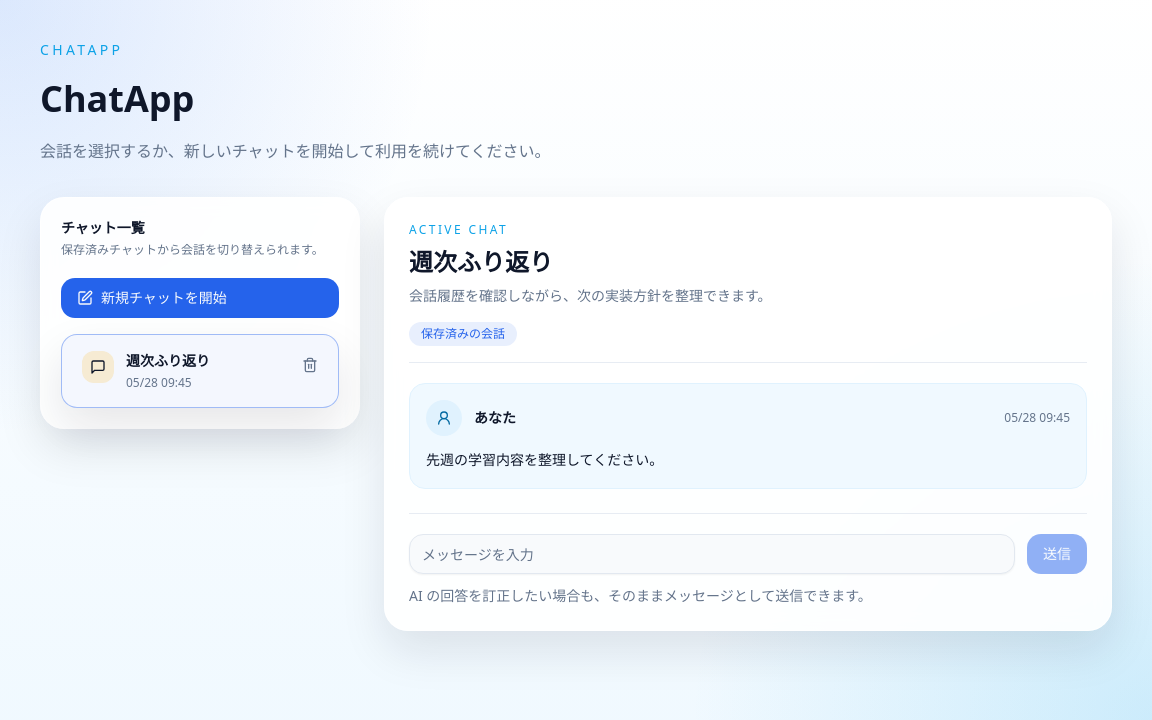
Test case: TopRoute workspace behavior › shows an inline error and keeps the current chat when message sending fails
Expected: the heading "週次ふり返り" is shown, top-left (409, 245), bottom-right (553, 278)
In the field named "メッセージ入力": (712, 554) top-left (409, 534), bottom-right (1015, 574), type "次の観点も追加してください。"
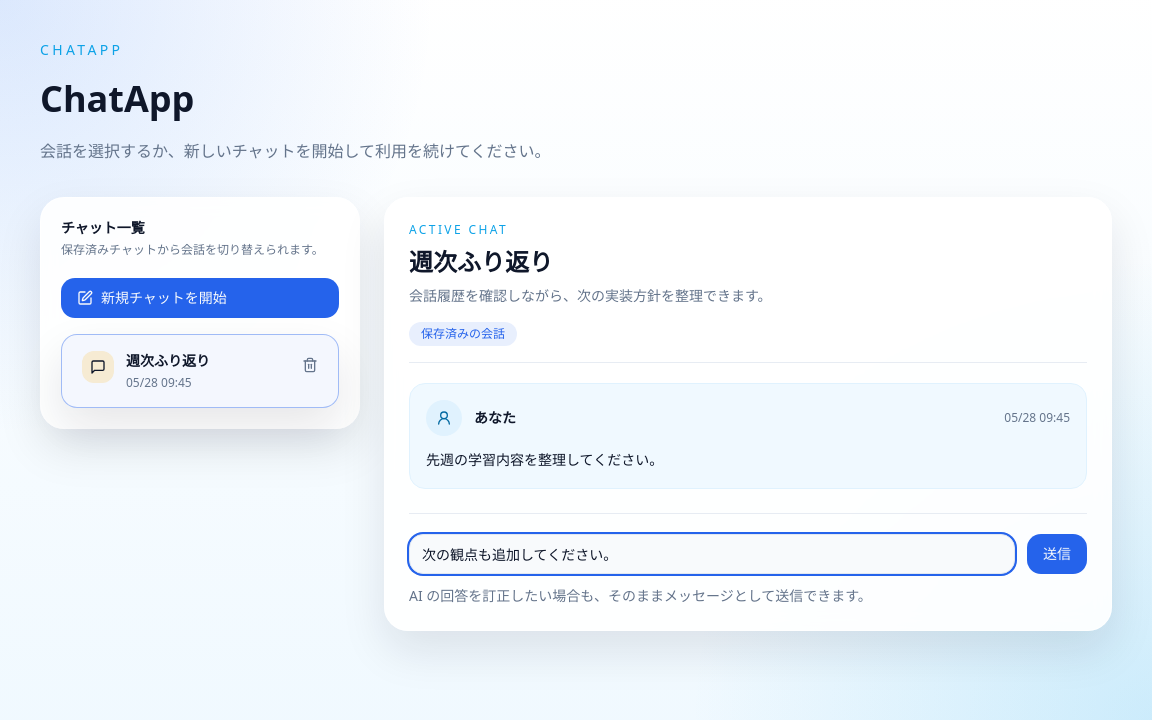
Click the button "送信": (1057, 554) top-left (1027, 534), bottom-right (1087, 574)
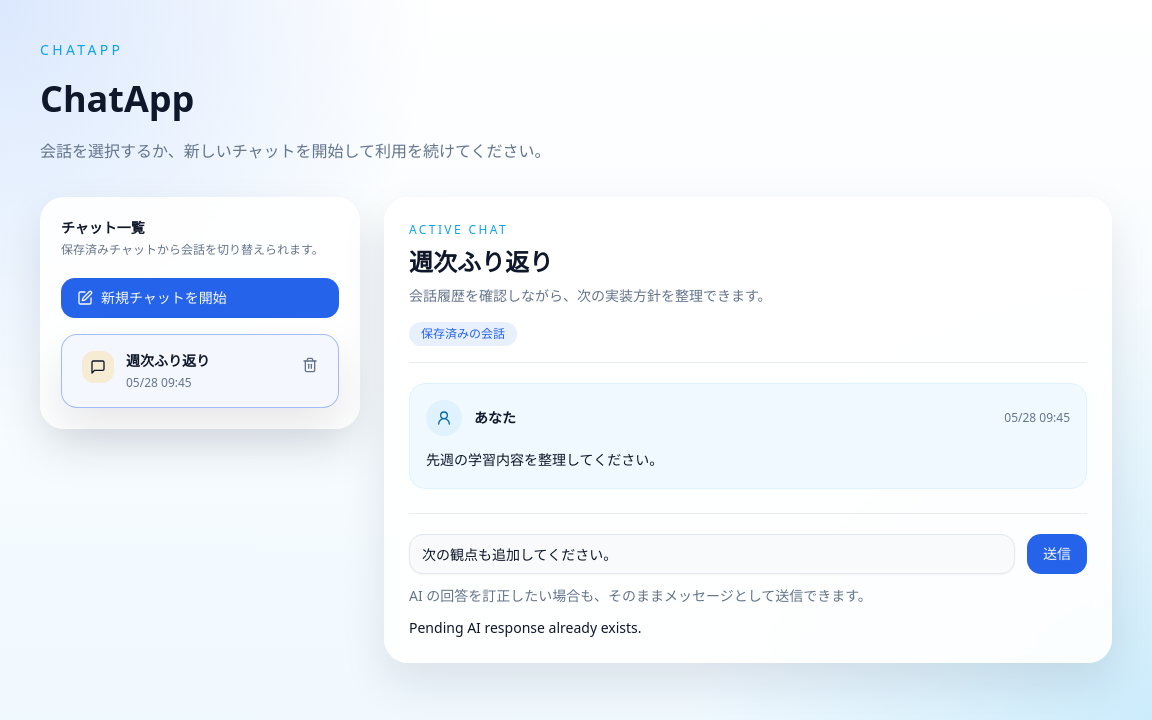
Expected: the heading "週次ふり返り" is shown, top-left (409, 245), bottom-right (553, 278)
Expected: the message reads "Pending AI response already exists.", top-left (409, 618), bottom-right (642, 637)
